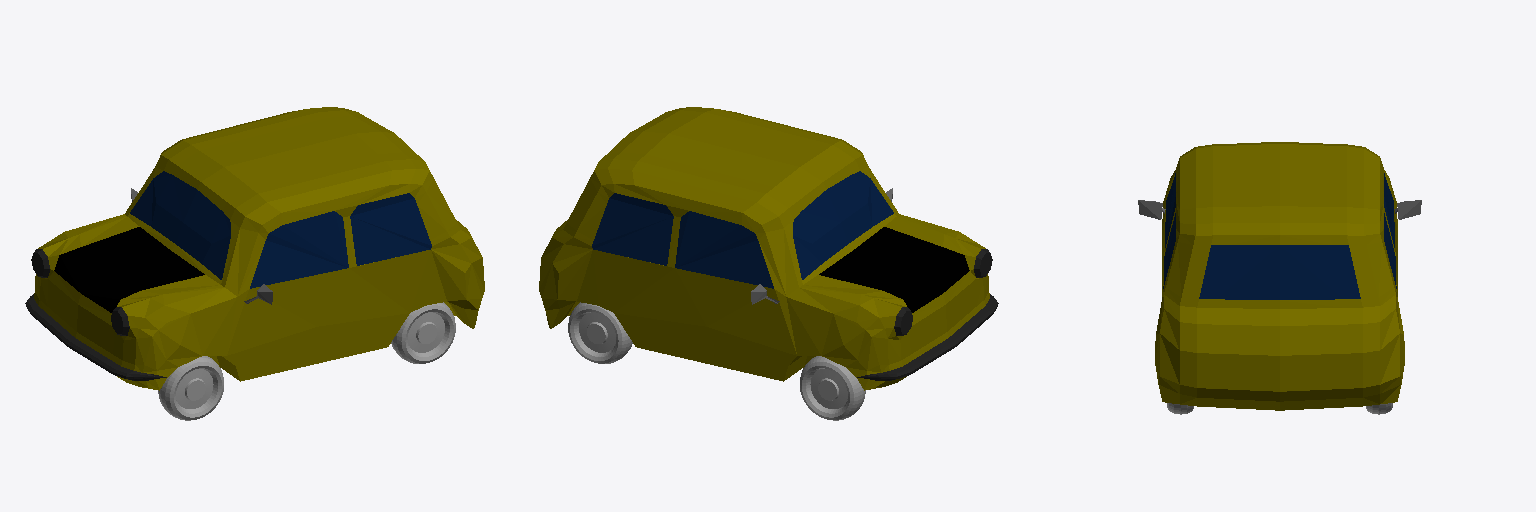
3 views of the same model, side by side, from view 1: azimuth 30°, elevation 25°; view 2: azimuth 150°, elevation 25°; view 3: azimuth 270°, elevation 25° (orthographic).
Visible parts, largest first — view 1: Car_body_Cube.001, Wheel_Torus, Wheel_2_Torus.001; view 2: Car_body_Cube.001, Wheel_Torus, Wheel_2_Torus.001; view 3: Car_body_Cube.001, Wing_mirrors_Cube.003.
Boxes of the visible parts, x1,y1,x2,y2 form: Car_body_Cube.001: [25, 107, 484, 390]; Wheel_Torus: [158, 356, 223, 420]; Wheel_2_Torus.001: [391, 302, 455, 363]; Car_body_Cube.001: [539, 107, 998, 390]; Wheel_Torus: [800, 356, 865, 420]; Wheel_2_Torus.001: [568, 302, 632, 363]; Car_body_Cube.001: [1155, 142, 1404, 410]; Wing_mirrors_Cube.003: [1138, 200, 1421, 219].
Size of the model in its own units: 8.8 by 4.37 by 5.72.
Materials: 7 (1 with a texture image).